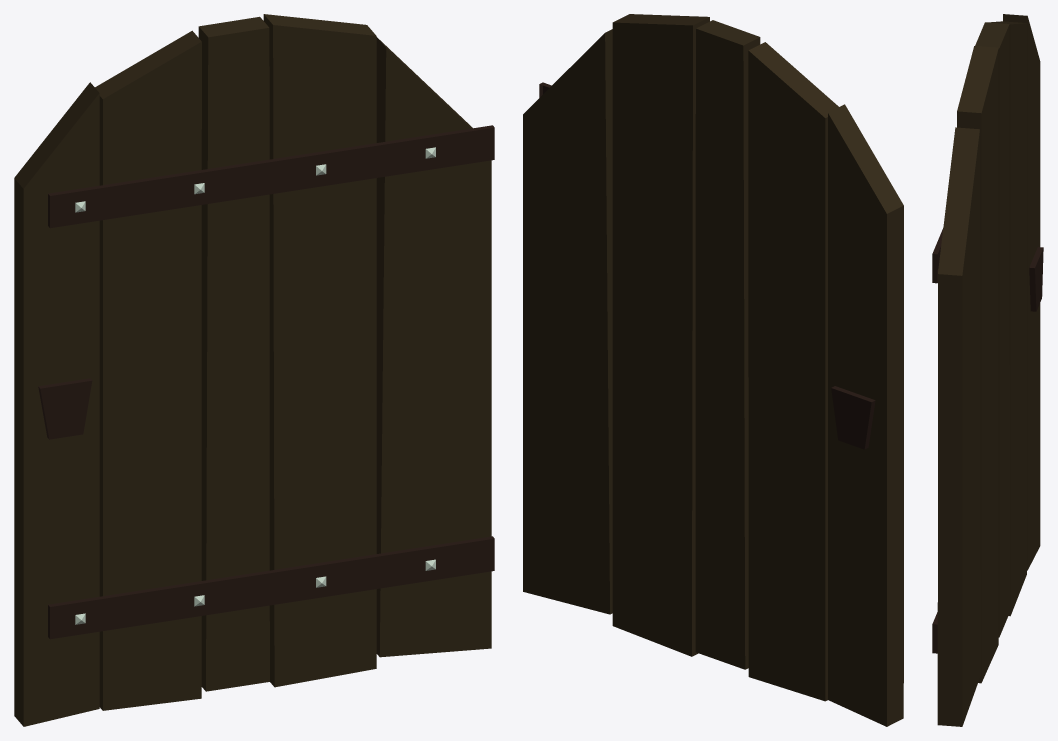
3 renders of one model, left to right at view 1: azimuth 30°, elevation 25°; view 2: azimuth 150°, elevation 25°; view 3: azimuth 270°, elevation 25°, orthographic. The views are drawn at different scales.
Parts seen in each view (by area): view 1: Plane107; view 2: Plane107; view 3: Plane107.
Boxes of the visible parts, x1,y1,x2,y2 form: Plane107: [14, 14, 494, 726]; Plane107: [523, 14, 903, 726]; Plane107: [932, 14, 1043, 726].
Size of the model in its own units: 1.19 by 1.76 by 0.2961.
